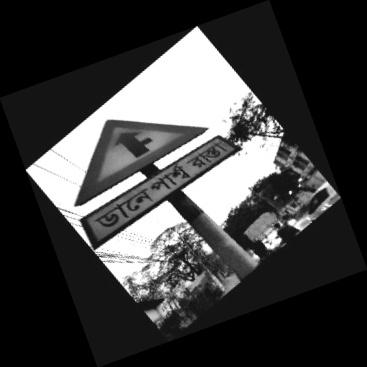Side-road-right: (73, 119, 244, 243)
